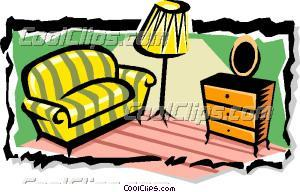sofa: (16, 45, 159, 158)
